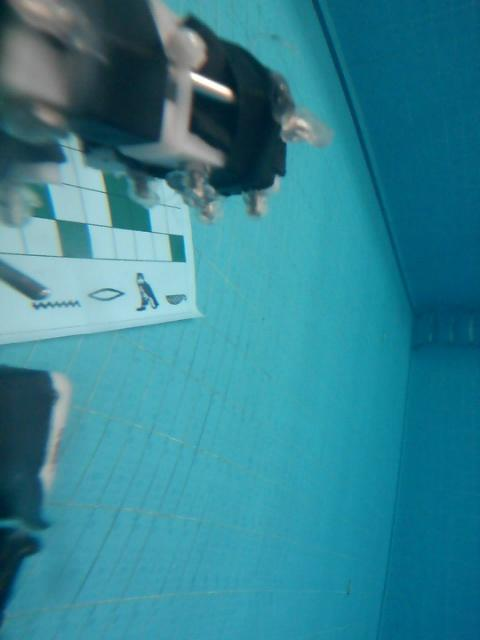Basket: (164, 293, 188, 306)
Mouth: (88, 289, 127, 303)
Owl: (133, 269, 160, 313)
Water: (31, 299, 82, 312)
